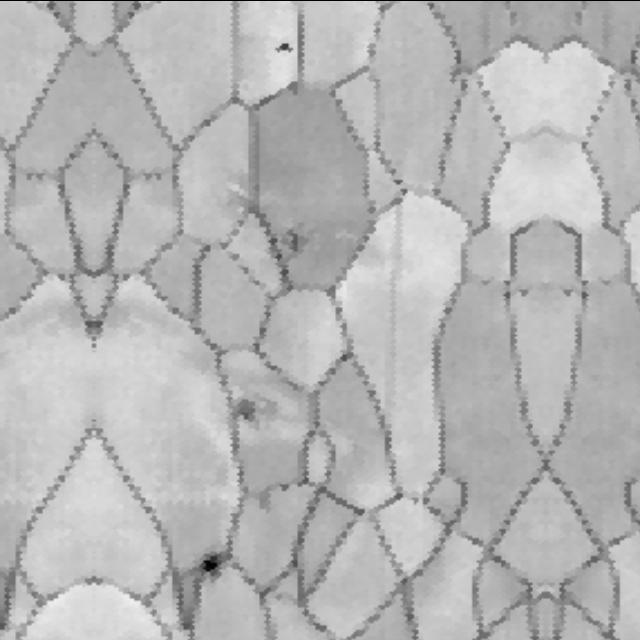good_void: (274, 219, 317, 267), (232, 395, 259, 423), (196, 552, 224, 576), (274, 37, 297, 60), (517, 287, 532, 297), (562, 288, 576, 298)
